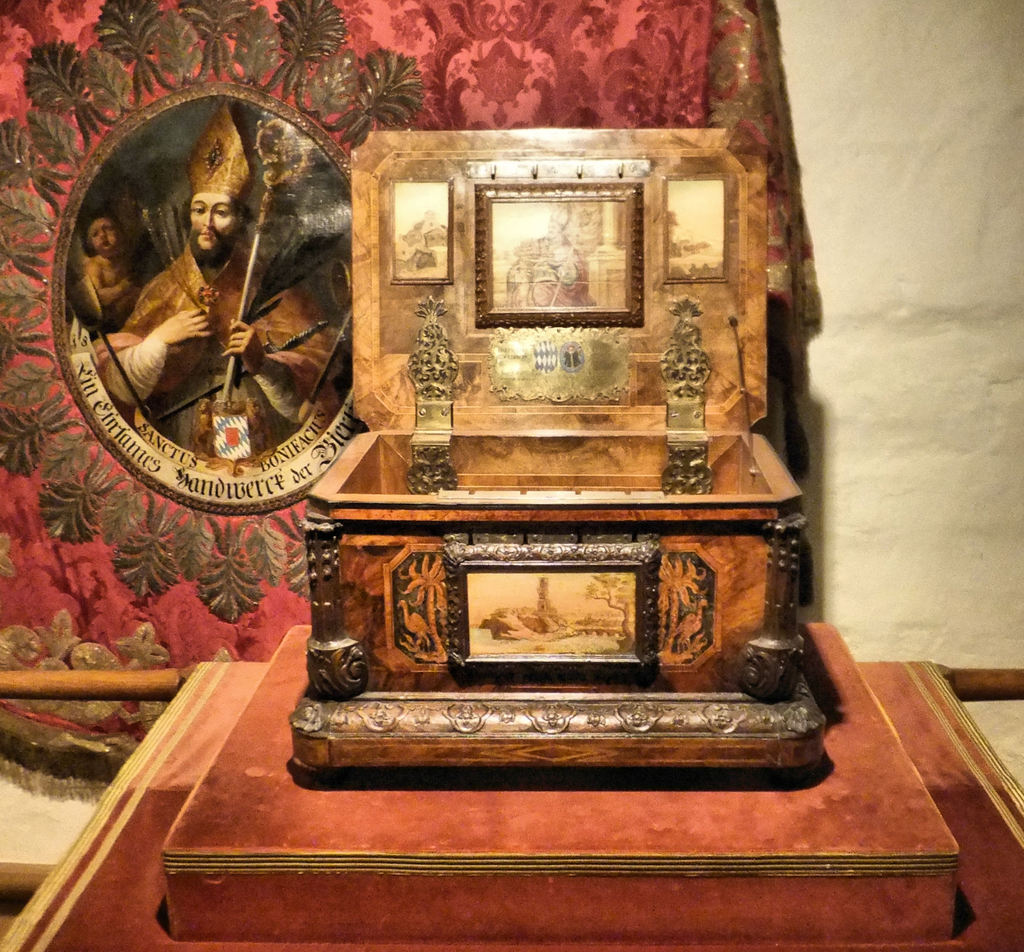Person: (88, 95, 352, 455)
